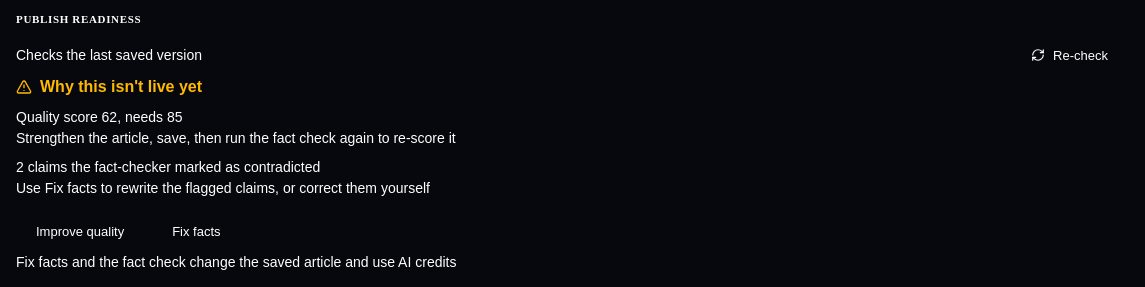
Test case: publish readiness in the editor › re-checks on demand
Check: the text "Why this isn't live yet" is shown, box top-left (16, 78), bottom-right (202, 95)
Click the button "Re-check". click: {"x": 1070, "y": 55}
box: top-left (1011, 36), bottom-right (1128, 75)
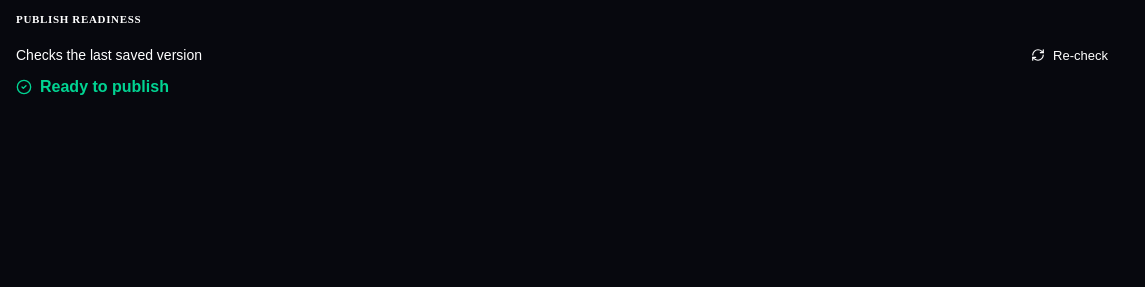
Check: the text "Ready to publish" is shown, box top-left (16, 78), bottom-right (169, 95)
